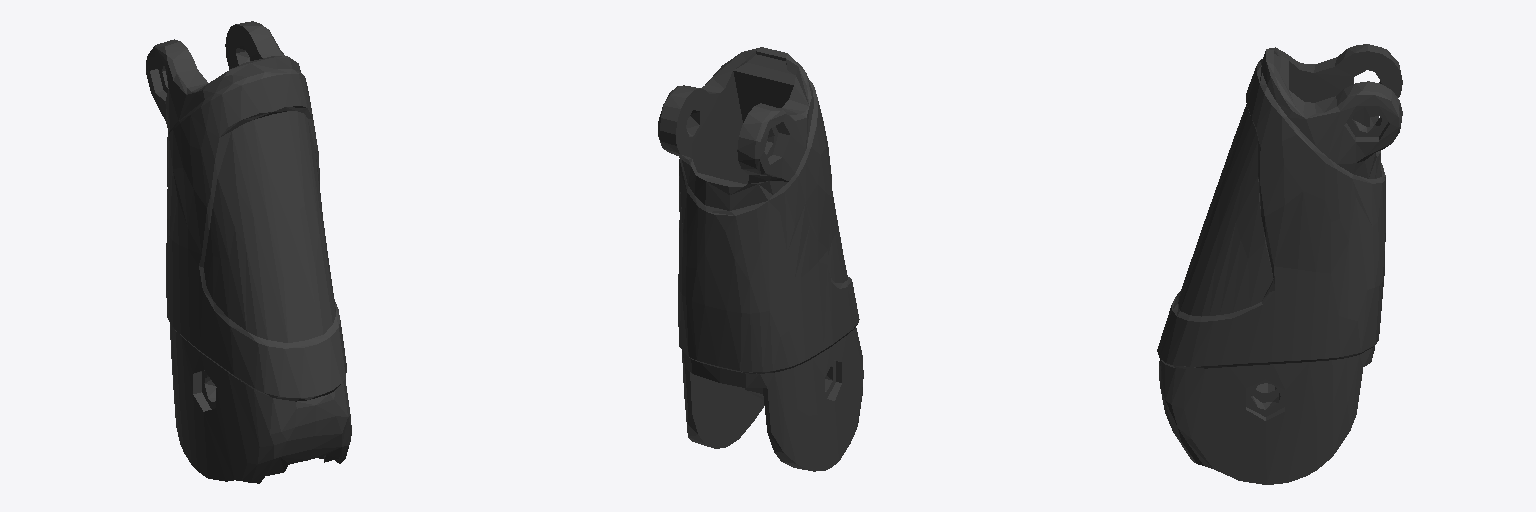
Rendered from L_middle_proximal.obj.
3 renders of one model, left to right at view 1: azimuth 30°, elevation 25°; view 2: azimuth 150°, elevation 25°; view 3: azimuth 270°, elevation 25°, orthographic.
Bounding box in the file's own units: 0.0143 × 0.0448 × 0.0249.